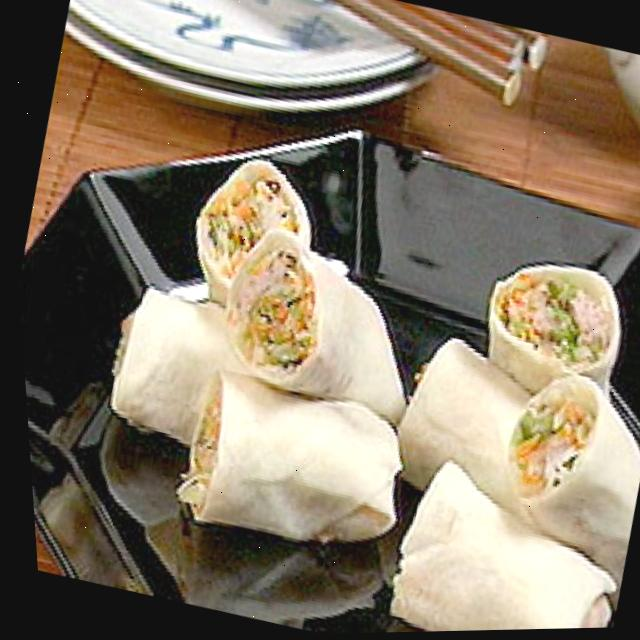鸡蛋料理: (41, 121, 640, 639)
